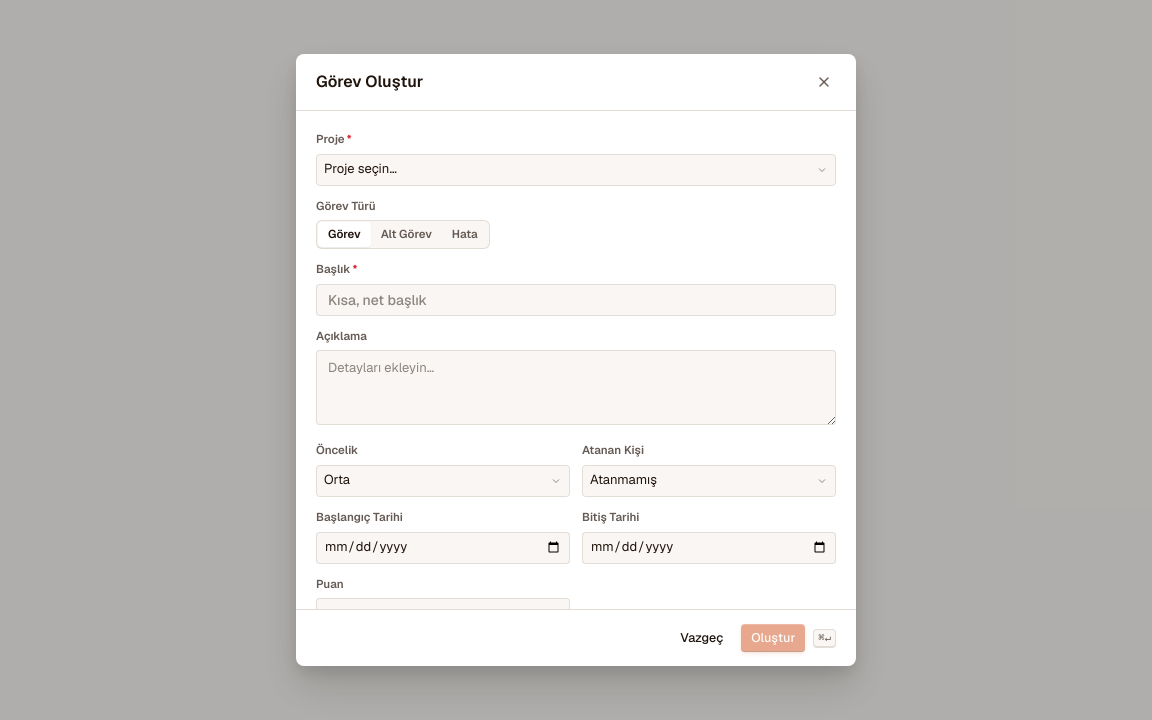
Scenario: TaskCreateModal › enables submit once title and project are filled
The image size is (1152, 720).
Check: the text "Görev Oluştur" is shown, box [316, 71, 423, 92]
// The first combobox is the Project select
Step 1. Select "MOB · Mobile" in the dropdown named "Proje" → (576, 170), box [316, 154, 836, 186]
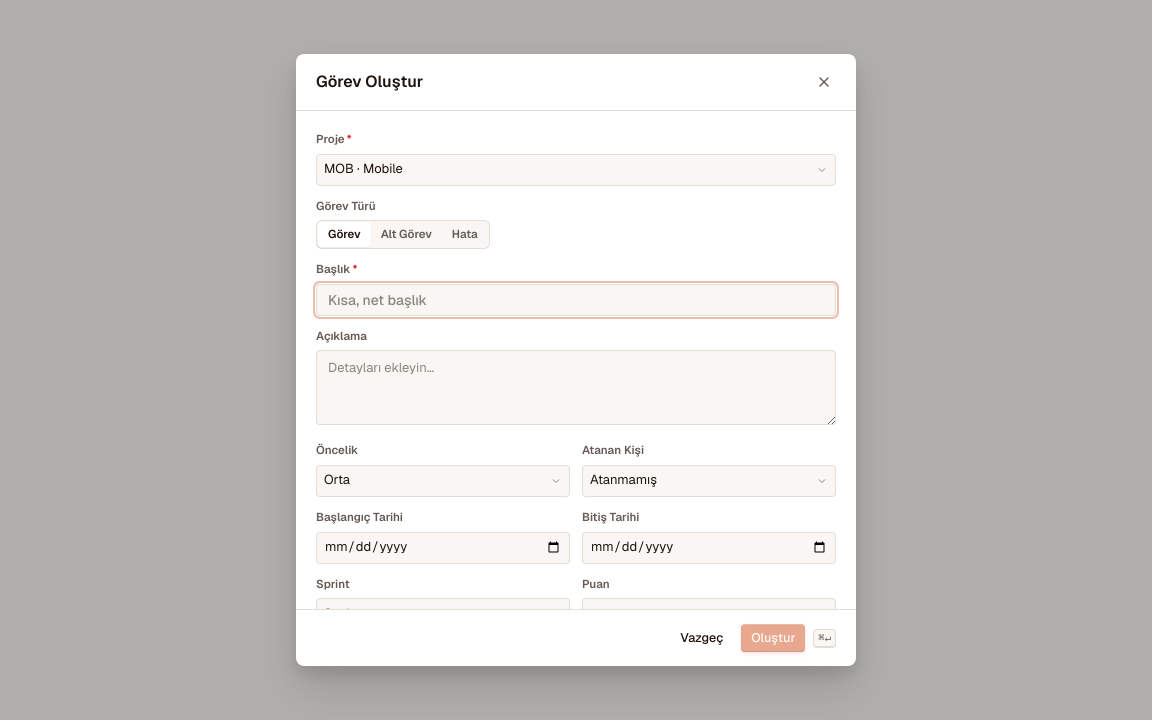
// Title input identified by placeholder
Step 2. Type "Hello task" into the field with placeholder "Kısa, net başlık" → (576, 300), box [316, 284, 836, 316]
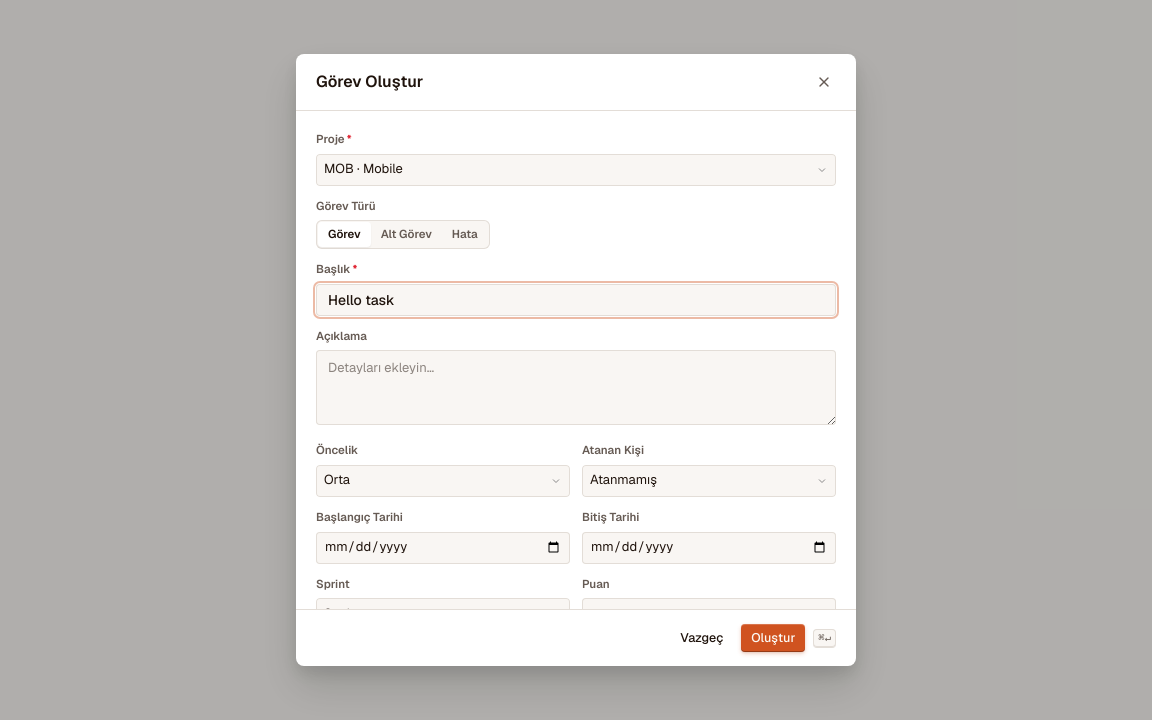
Check: the button "Oluştur" is enabled, box [741, 624, 805, 652]
